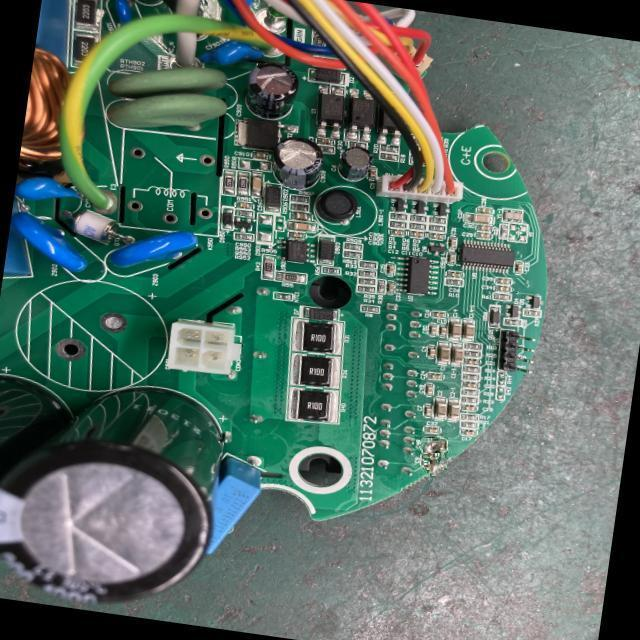damged: (421, 437, 448, 453), (427, 456, 444, 473)
